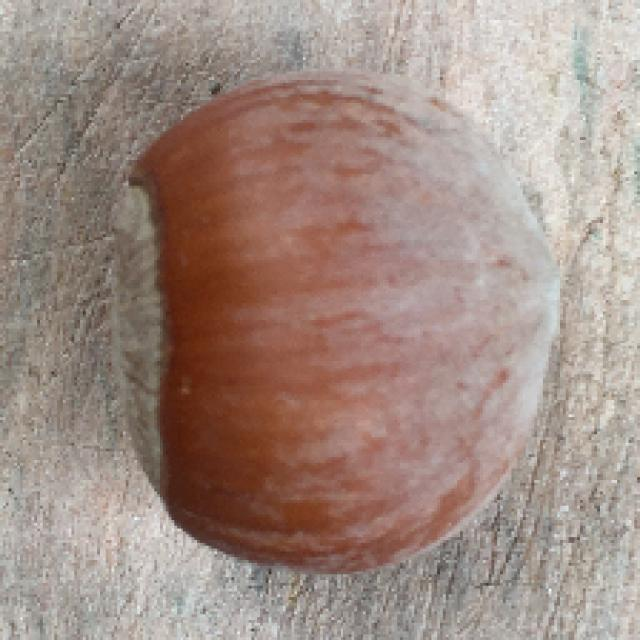qualityHazelnut: (104, 88, 562, 568)
